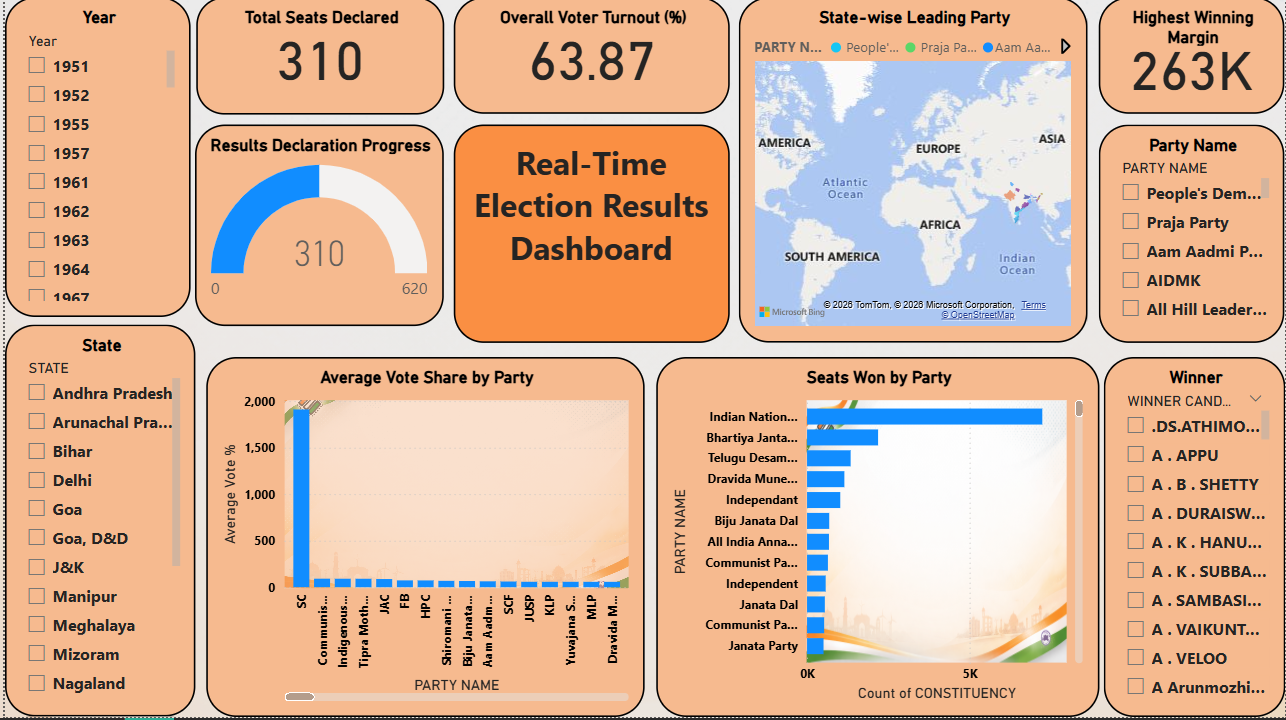

What the dashboard file says about the page in this screenshot:
{"tool":"powerbi","page":{"name":"Page 1","canvas":[1280,720],"ordinal":0},"visuals":[{"type":"textbox","box":[9.7,0,1260.3,79.7],"z":0},{"type":"card","fields":{"Values":["Total Seats Won.Total Seats Won"]},"box":[334.7,87,259.8,110],"z":1000},{"type":"card","fields":{"Values":["Total Seats Won.Total Votes"]},"box":[9.7,87,259.8,110],"z":2000},{"type":"card","fields":{"Values":["Loksabha.Avg Win Margin"]},"box":[680.3,87,259.8,110],"z":3000},{"type":"card","fields":{"Values":["Total Seats Won.ReElected Candidates"]},"box":[1010.1,87,259.8,110],"z":4000},{"type":"slicer","fields":{"Values":["Dim_Year.YEAR"]},"box":[9.7,221.1,219.9,60.4],"z":5000},{"type":"slicer","fields":{"Values":["Dim_State.STATE NAME"]},"box":[269.5,221.1,219.9,60.4],"z":6000},{"type":"clusteredBarChart","title":"Top 10 Winning Margin","fields":{"Category":["Dim_Candidate.WINNER CANDIDATE NAME"],"Y":["Loksabha.TOTAL VOTERS (MARGIN)"]},"box":[398.7,292.4,334.7,276.7],"z":7000},{"type":"clusteredColumnChart","title":"Competitive Intensity","fields":{"Category":["Loksabha.TOTAL VOTERS (MARGIN) (bins)"],"Y":["Loksabha.WINNER CANDIDATE NAME"]},"box":[9.7,292.4,364.9,276.7],"z":8000},{"type":"map","title":"STATE VOTE DISTRIBUTION","fields":{"Category":["Loksabha.STATE NAME"],"Size":["Loksabha.TOTAL VOTE CASTED"],"Series":["Loksabha.PARTY NAME"]},"box":[758.8,251.3,520.8,468.8],"z":9000},{"type":"slicer","fields":{"Values":["Dim_Party.PARTY NAME"]},"box":[530.4,221.1,219.9,60.4],"z":10000}]}

Visuals, with their boxes in screenshot pixels (x1, y1, x2, y2), scaled from the page's 1280x720 canvas onto the 1286x720 screenshot:
textbox: box(10, 0, 1276, 80)
card - Total Seats Won.Total Seats Won: box(336, 87, 597, 197)
card - Total Seats Won.Total Votes: box(10, 87, 271, 197)
card - Loksabha.Avg Win Margin: box(683, 87, 945, 197)
card - Total Seats Won.ReElected Candidates: box(1015, 87, 1276, 197)
slicer - Dim_Year.YEAR: box(10, 221, 231, 282)
slicer - Dim_State.STATE NAME: box(271, 221, 492, 282)
"Top 10 Winning Margin" clusteredBarChart: box(401, 292, 737, 569)
"Competitive Intensity" clusteredColumnChart: box(10, 292, 376, 569)
"STATE VOTE DISTRIBUTION" map: box(762, 251, 1285, 719)
slicer - Dim_Party.PARTY NAME: box(533, 221, 754, 282)
